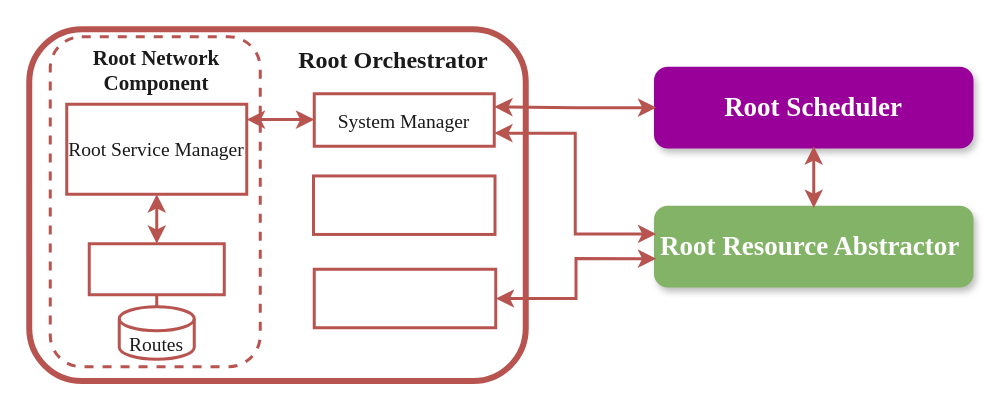
This 1008x410 diagram has some shape labels left out. The shapes that lost their labels are listed below. From the top down, each one's centre as x and y in pixels, then its label:
At pixel 403 204: "Grafana".
At pixel 156 269: "mongo net".
At pixel 404 297: "Addons Engine".
